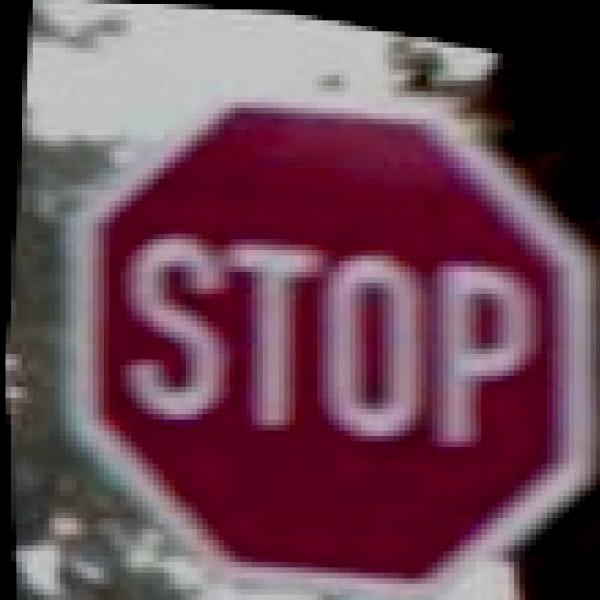stop_sign: (13, 20, 600, 600)
